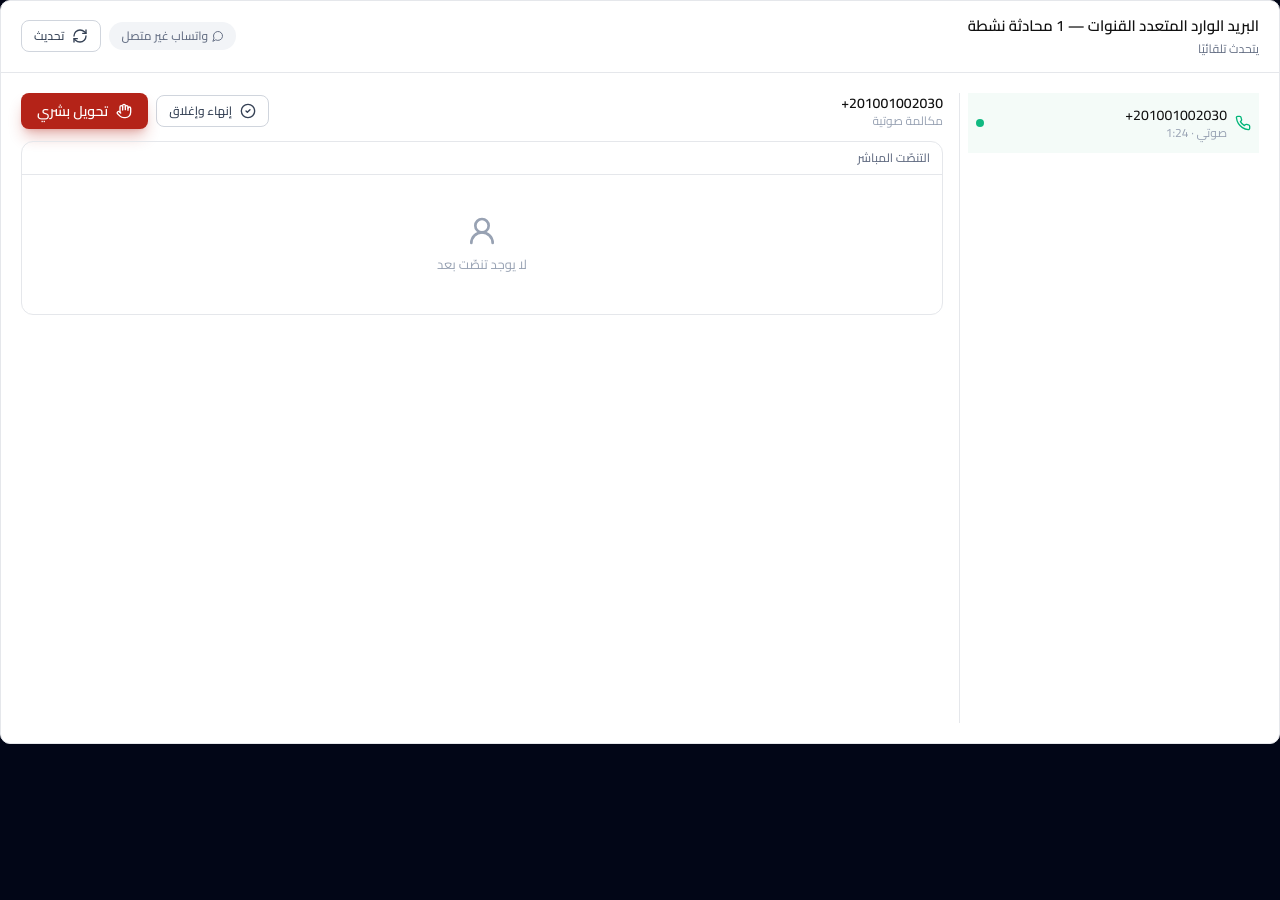
it: OmnichannelLiveInbox › زر إنهاء المحادثة يستدعي POST /conversations/:id/close ويُزيل المحادثة من القائمة
Expected: the 2nd text "+201001002030" is shown, [1125,104,1227,124]
Step 1. Click the button "إنهاء وإغلاق" → (213, 110), box [156,94,269,126]
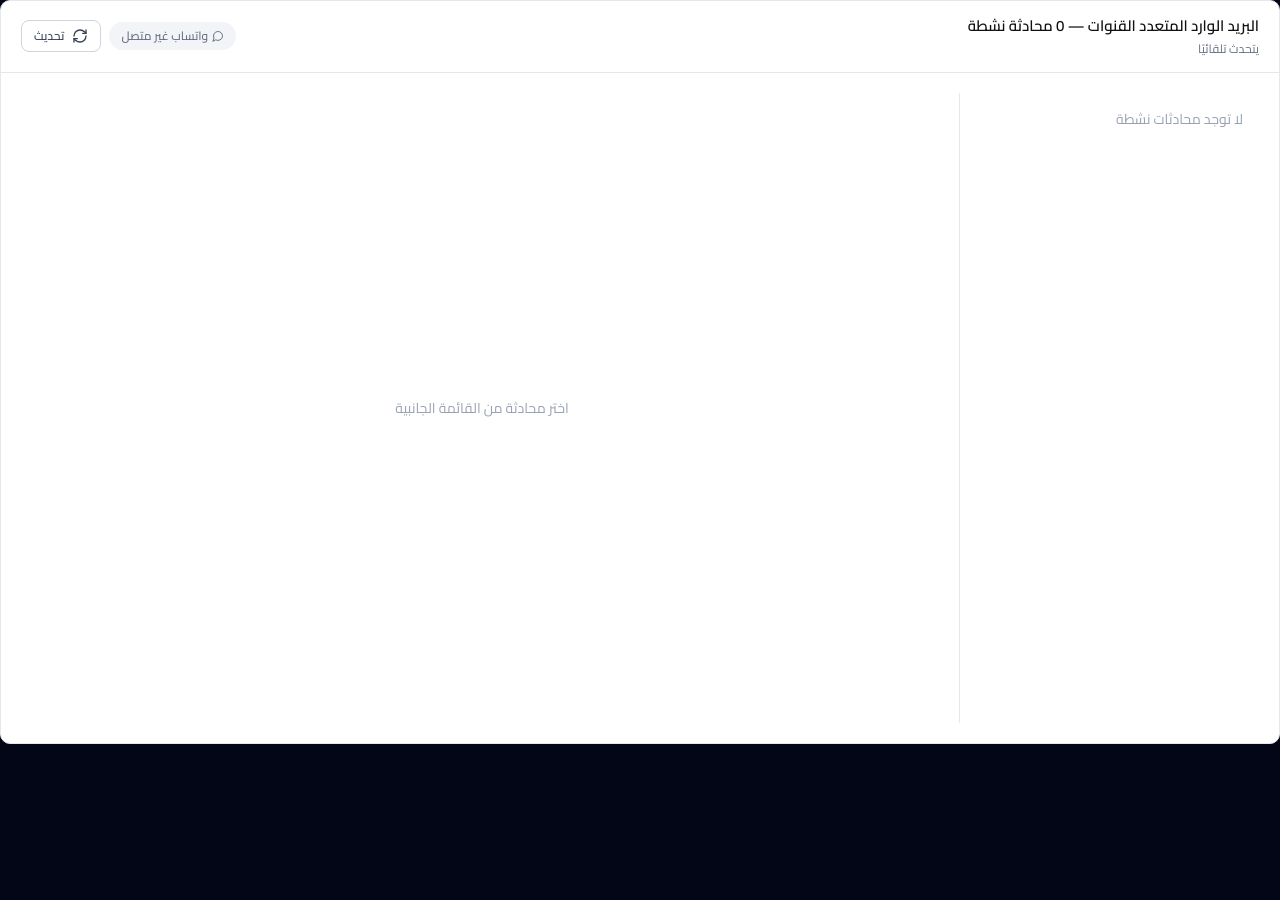
Now the text "لا توجد محادثات نشطة" is shown, box [1116,106,1243,132]
Now the heading "البريد الوارد المتعدد القنوات — 0 محادثة نشطة" is shown, box [968,15,1259,38]
